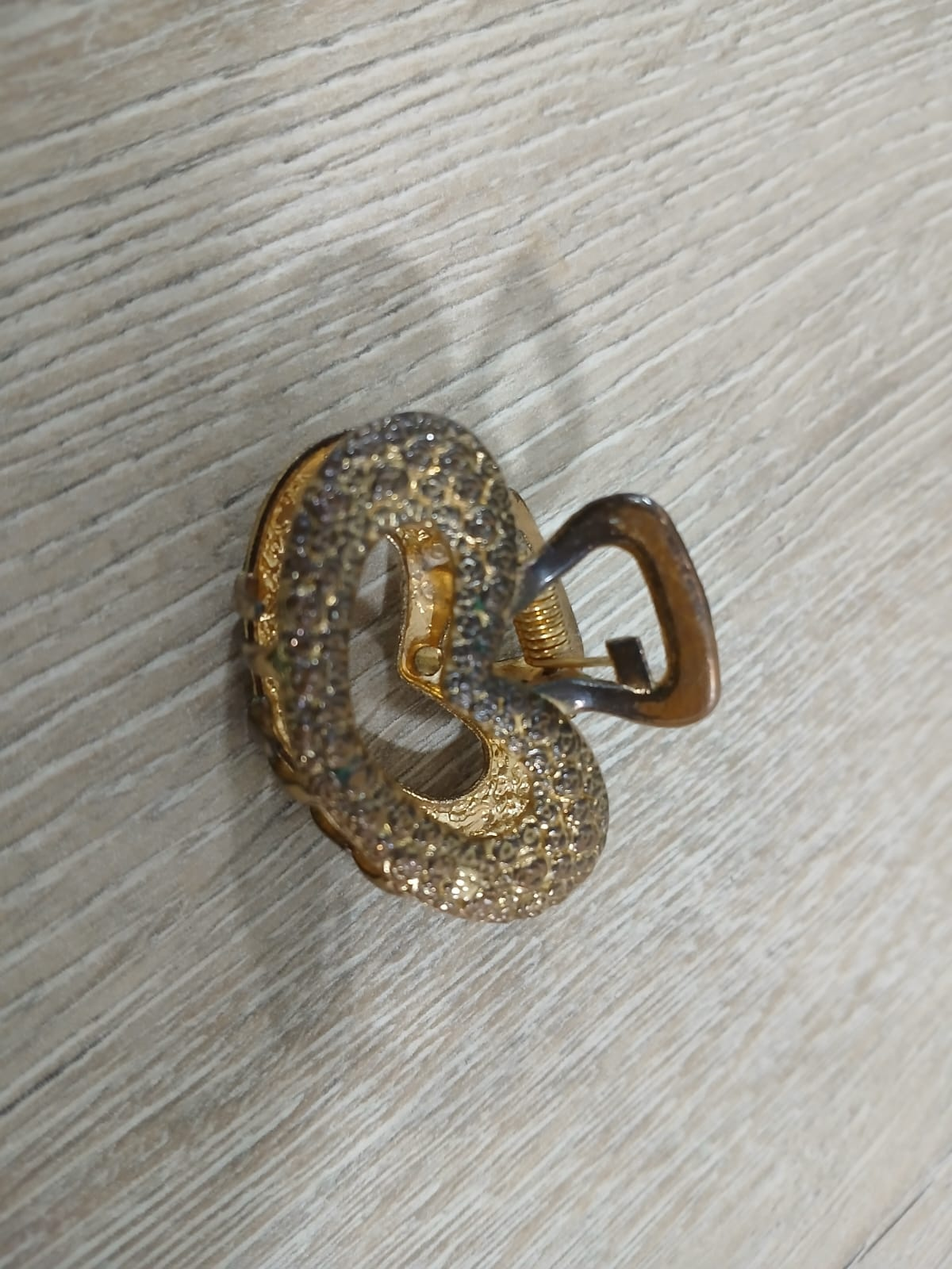Ordinario: (234, 411, 724, 922)
